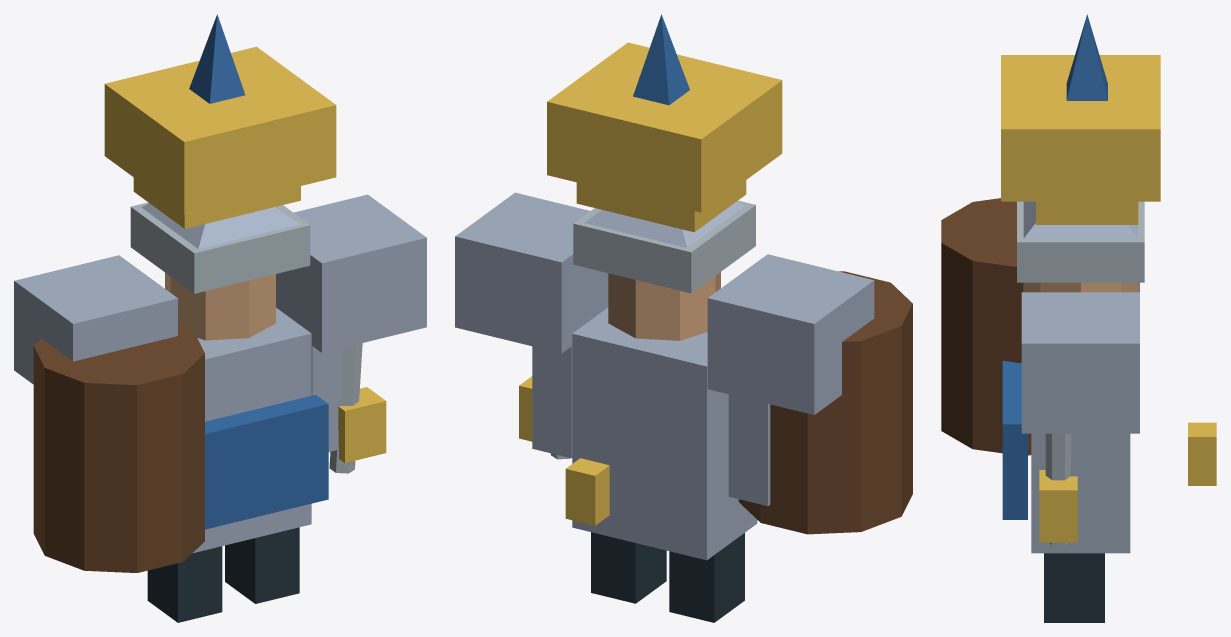
File: heavy-infantry.obj
The picture shows the model from 3 angles, left to right: view 1: azimuth 30°, elevation 25°; view 2: azimuth 150°, elevation 25°; view 3: azimuth 270°, elevation 25°; orthographic projection.
Parts seen in each view (by area): view 1: infantry; view 2: infantry; view 3: infantry.
Part boxes in pixels (x1,y1,x2,y2): infantry: (14,14,426,622); infantry: (455,14,912,622); infantry: (941,14,1216,622).
Bounding box in the file's own units: 1.38 × 2 × 0.8618.
